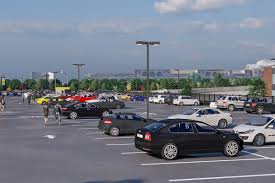car: (136, 118, 243, 162), (99, 109, 172, 135), (168, 106, 232, 130), (236, 115, 275, 147), (63, 103, 107, 120), (89, 93, 125, 113), (241, 95, 275, 115), (212, 95, 250, 112), (46, 95, 85, 107), (173, 93, 201, 108), (38, 94, 65, 106), (77, 92, 103, 104), (126, 94, 147, 105), (153, 93, 171, 105), (115, 92, 134, 103), (164, 94, 181, 101)
person: (52, 103, 62, 125), (42, 103, 51, 126), (2, 94, 7, 115)
